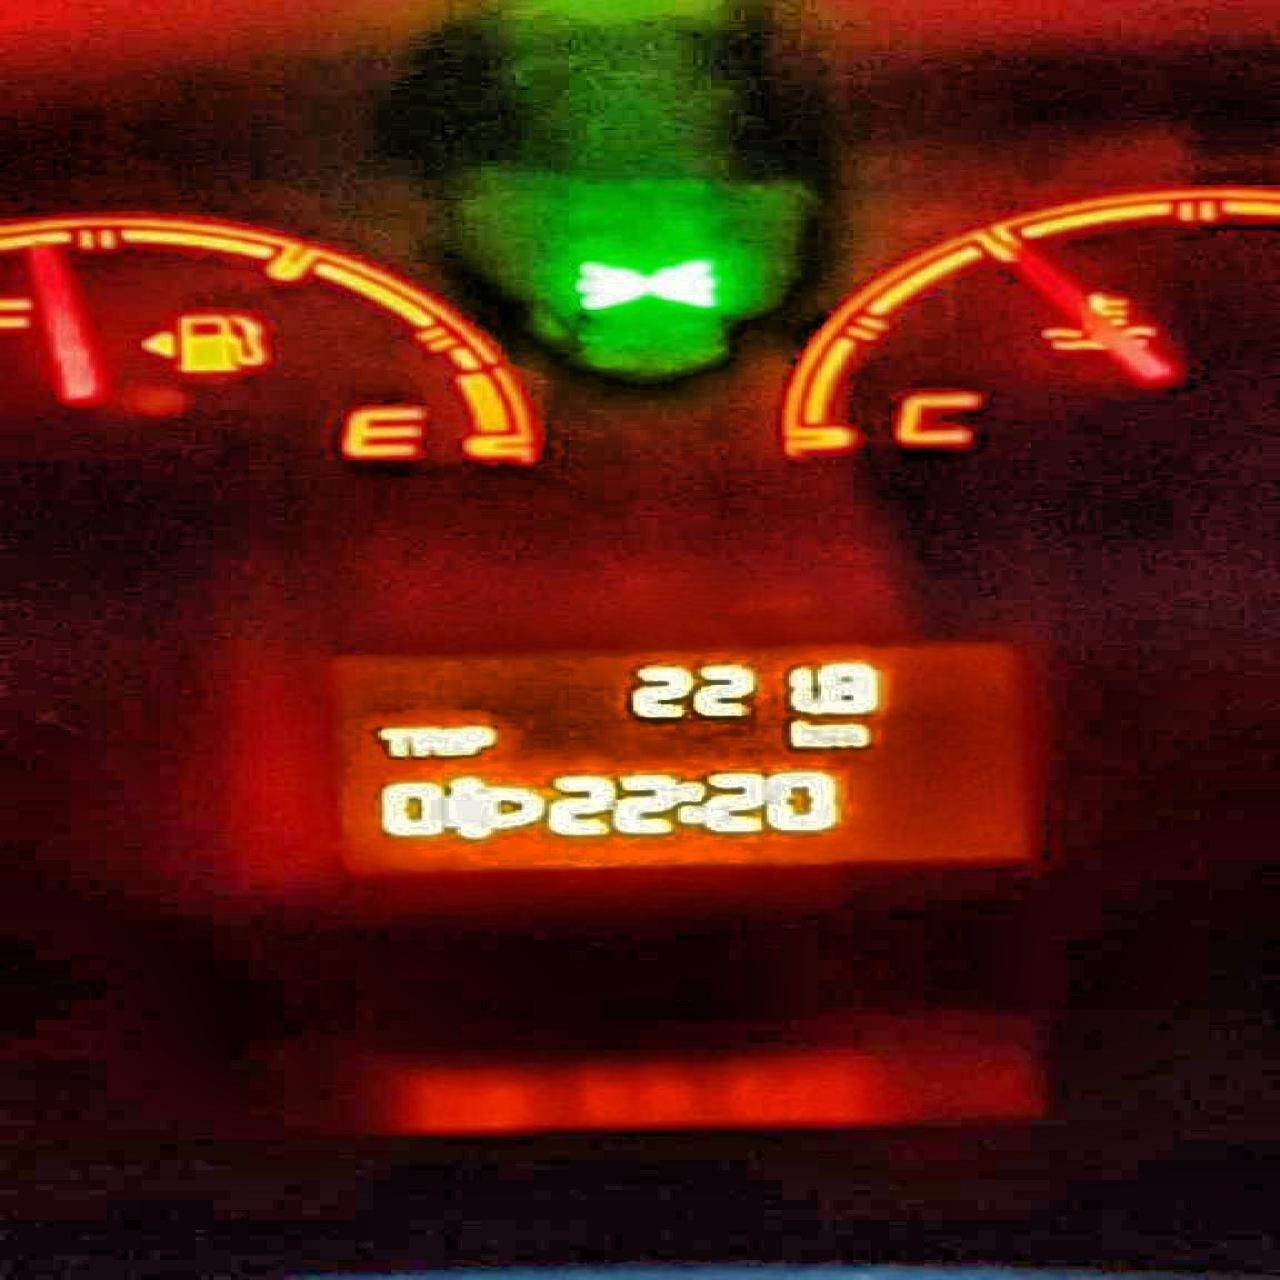0: (764, 770, 838, 832), (377, 779, 444, 836)
1: (782, 663, 816, 714)
2: (545, 774, 611, 835), (613, 774, 674, 835), (702, 771, 762, 831), (627, 663, 692, 717), (694, 662, 756, 715)
8: (813, 660, 878, 713)
X: (819, 720, 873, 749), (672, 779, 704, 824), (462, 722, 498, 756), (374, 727, 414, 757), (787, 717, 817, 751), (414, 726, 443, 756), (442, 724, 462, 760)
odometer: (327, 644, 1040, 874)
